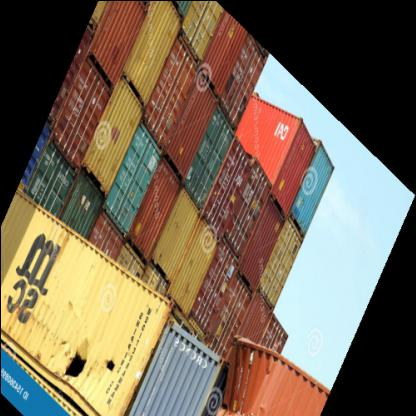Damage: (51, 332, 102, 380), (86, 352, 122, 384)
